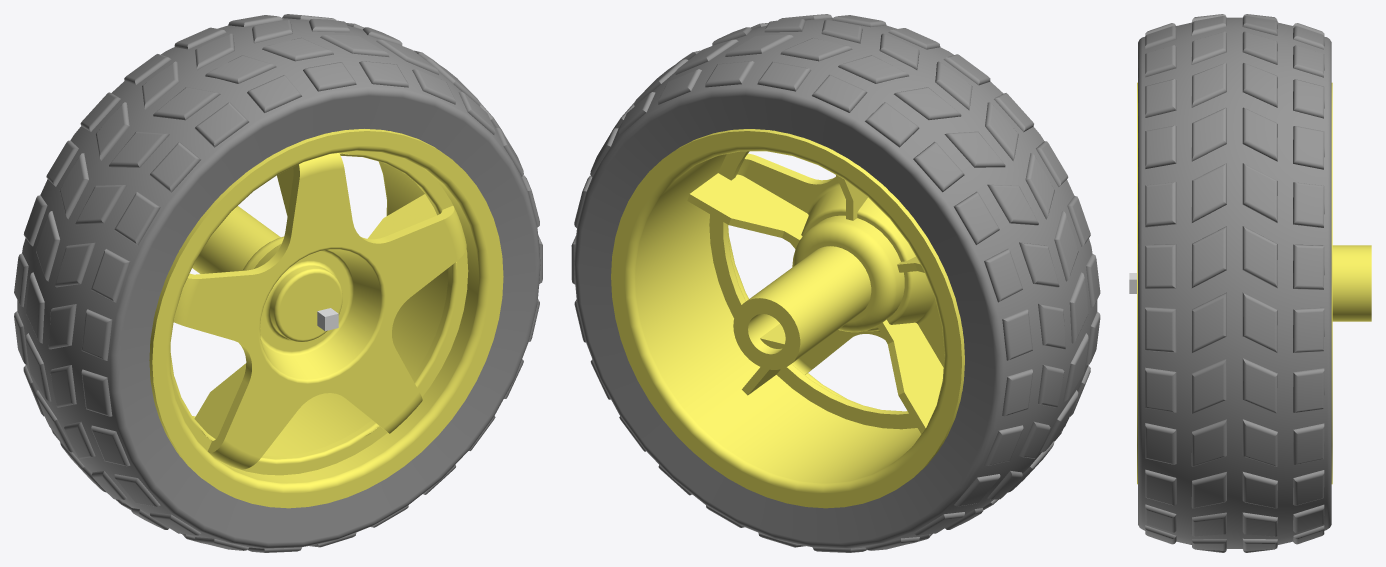
Rendered from Ruedas.glb.
3 renders of one model, left to right at view 1: azimuth 30°, elevation 25°; view 2: azimuth 150°, elevation 25°; view 3: azimuth 270°, elevation 25°, orthographic.
Visible parts, largest first — view 1: Wheel D65x25; view 2: Wheel D65x25; view 3: Wheel D65x25.
Boxes of the visible parts, x1,y1,x2,y2 form: Wheel D65x25: (14, 14, 542, 552); Wheel D65x25: (571, 14, 1100, 552); Wheel D65x25: (1137, 14, 1371, 552).
Bounding box in the file's own units: 68.92 × 68.87 × 31.
